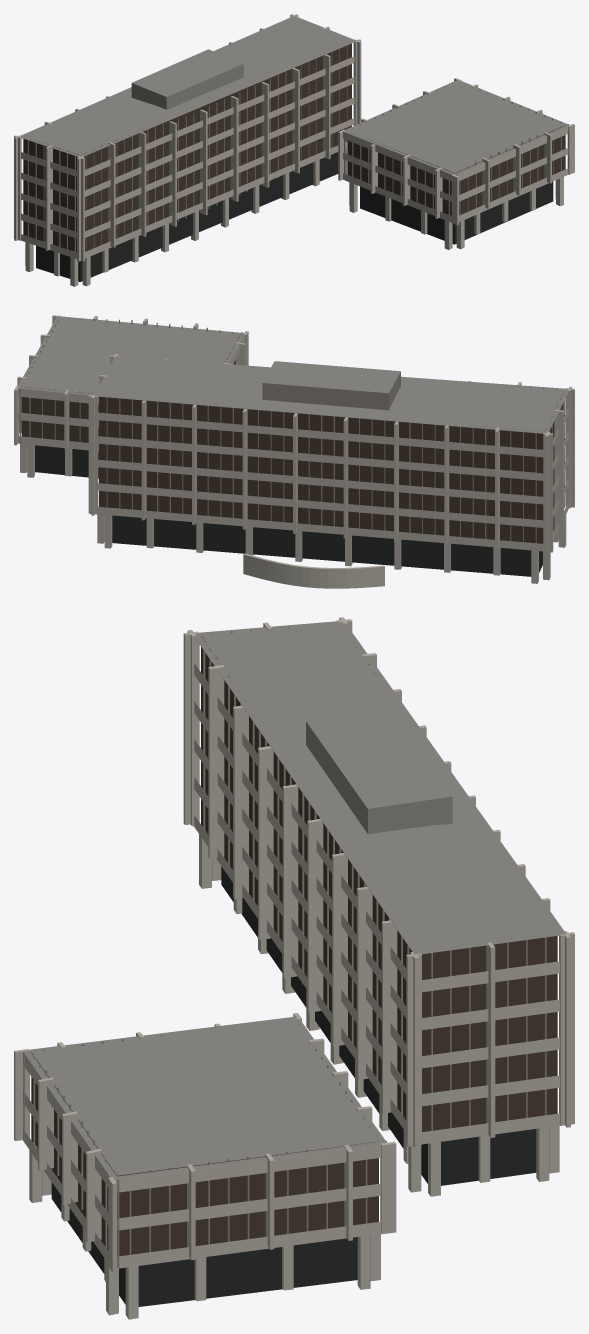
Rendered from czech_slovak_embassies.glb.
3 renders of one model, top to bottom at view 1: azimuth 30°, elevation 25°; view 2: azimuth 150°, elevation 25°; view 3: azimuth 270°, elevation 25°, orthographic. The views are drawn at different scales.
Bounding box in the file's own units: 91.51 × 26.92 × 48.14.
